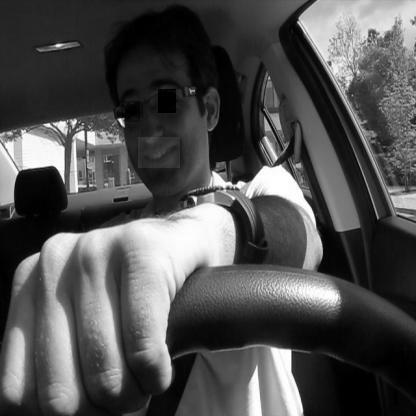seatbelt: (89, 0, 309, 416)
